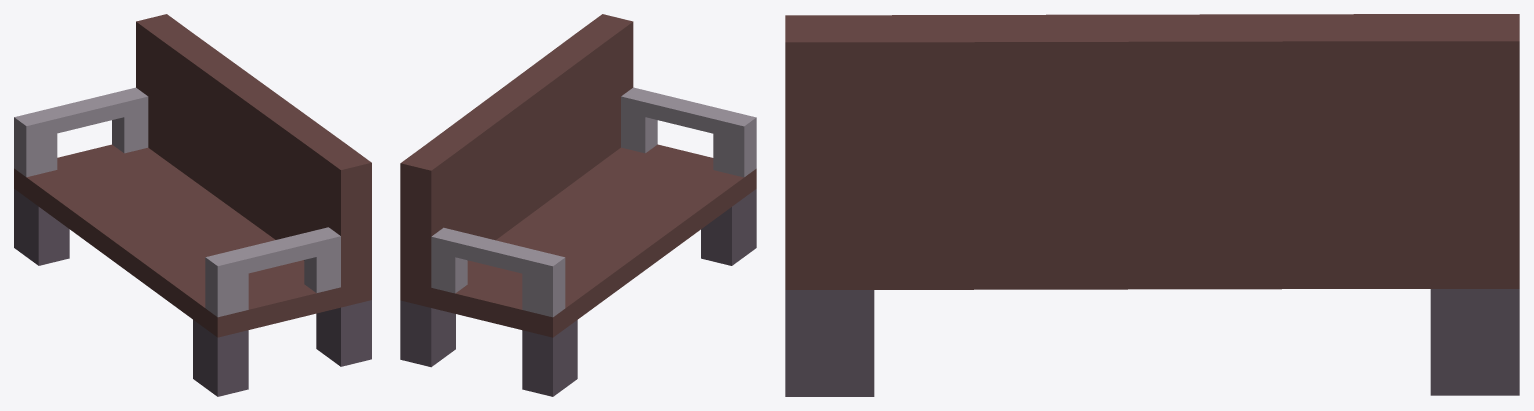
File: Bank_01.fbx
3 views of the same model, side by side, from view 1: azimuth 30°, elevation 25°; view 2: azimuth 150°, elevation 25°; view 3: azimuth 270°, elevation 25° (orthographic). The views are drawn at different scales.
Visible parts, largest first — view 1: Cube.003; view 2: Cube.003; view 3: Cube.003.
Part boxes in pixels (left/top/right/bottom): Cube.003: left=14, top=14, right=371, bottom=396; Cube.003: left=400, top=14, right=756, bottom=396; Cube.003: left=785, top=14, right=1519, bottom=396.
Bounding box in the file's own units: 295 × 360 × 675.
1 material, 1 textured.
